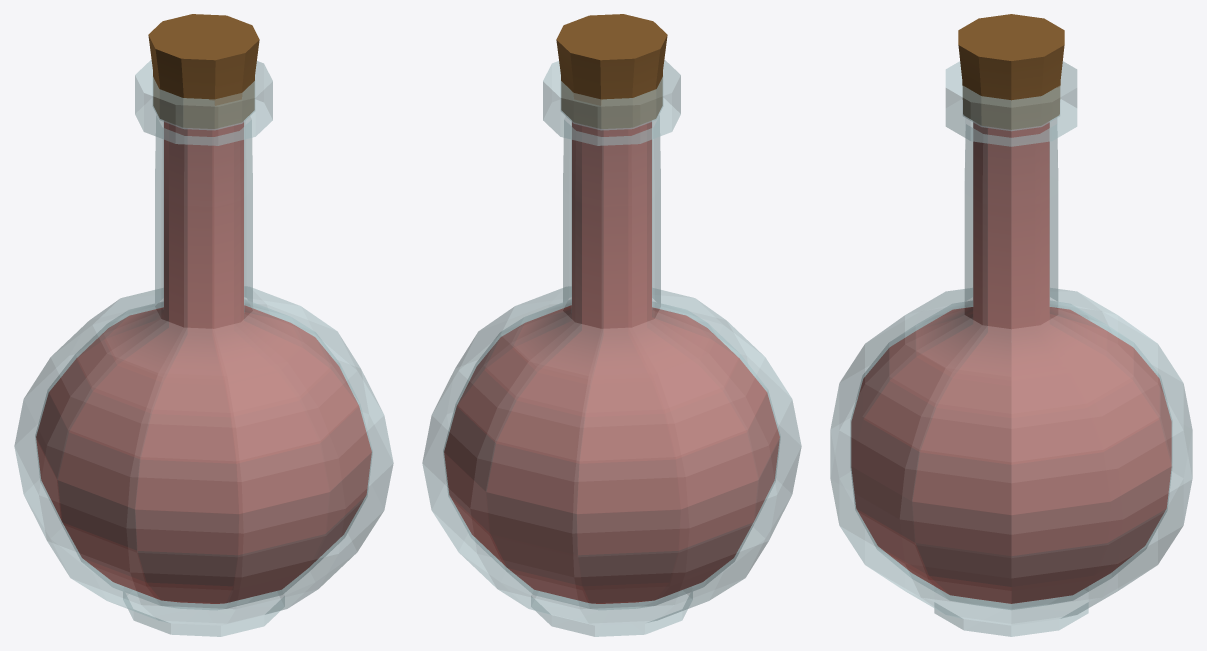
Rendered from health_potion_02.fbx.
3 views of the same model, side by side, from view 1: azimuth 30°, elevation 25°; view 2: azimuth 150°, elevation 25°; view 3: azimuth 270°, elevation 25° (orthographic).
Visible parts, largest first — view 1: health_bottle, health_liquid, health_cork; view 2: health_bottle, health_liquid, health_cork; view 3: health_bottle, health_liquid, health_cork.
Part boxes in pixels (box(x1,y1,x2,y2)): health_bottle: box(14, 59, 393, 636); health_liquid: box(36, 121, 371, 603); health_cork: box(148, 14, 259, 128); health_bottle: box(422, 59, 801, 636); health_liquid: box(444, 121, 779, 603); health_cork: box(556, 14, 667, 128); health_bottle: box(830, 61, 1192, 636); health_liquid: box(851, 122, 1171, 603); health_cork: box(958, 14, 1064, 129).
Bounding box in the file's own units: 2.77 × 4.56 × 2.63.
